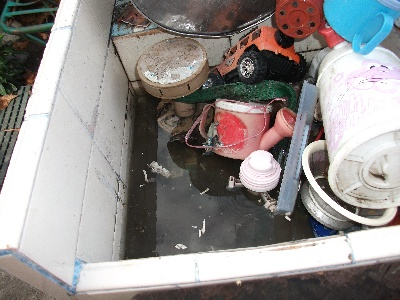bowl: (301, 140, 398, 229), (212, 99, 271, 159), (240, 150, 282, 192)
bucket: (320, 44, 400, 207)
plate: (137, 38, 210, 98)
